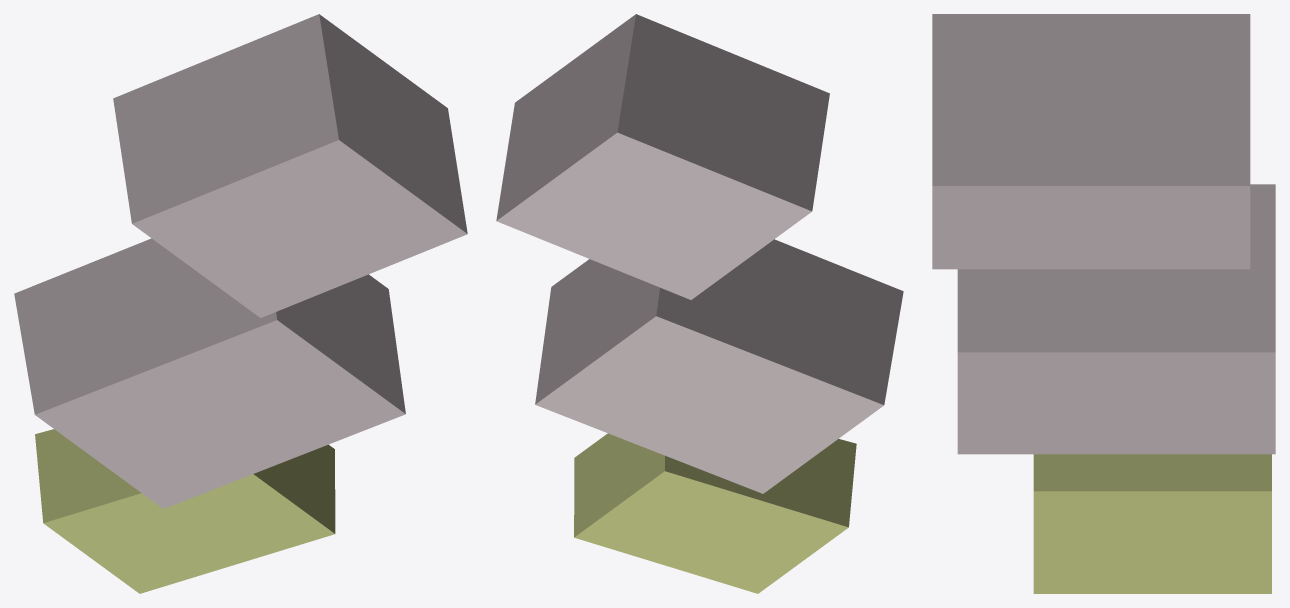
3 views of the same model, side by side, from view 1: azimuth 30°, elevation 25°; view 2: azimuth 150°, elevation 25°; view 3: azimuth 270°, elevation 25° (orthographic). The views are drawn at different scales.
Visible parts, largest first — view 1: 0_1_2_3_3_3_3_3_3_0; view 2: 0_1_2_3_3_3_3_3_3_0; view 3: 0_1_2_3_3_3_3_3_3_0.
Boxes of the visible parts, x1,y1,x2,y2 form: 0_1_2_3_3_3_3_3_3_0: [14, 14, 467, 593]; 0_1_2_3_3_3_3_3_3_0: [496, 14, 903, 593]; 0_1_2_3_3_3_3_3_3_0: [932, 14, 1275, 593].
Bounding box in the file's own units: 16.92 × 23.17 × 12.96.
